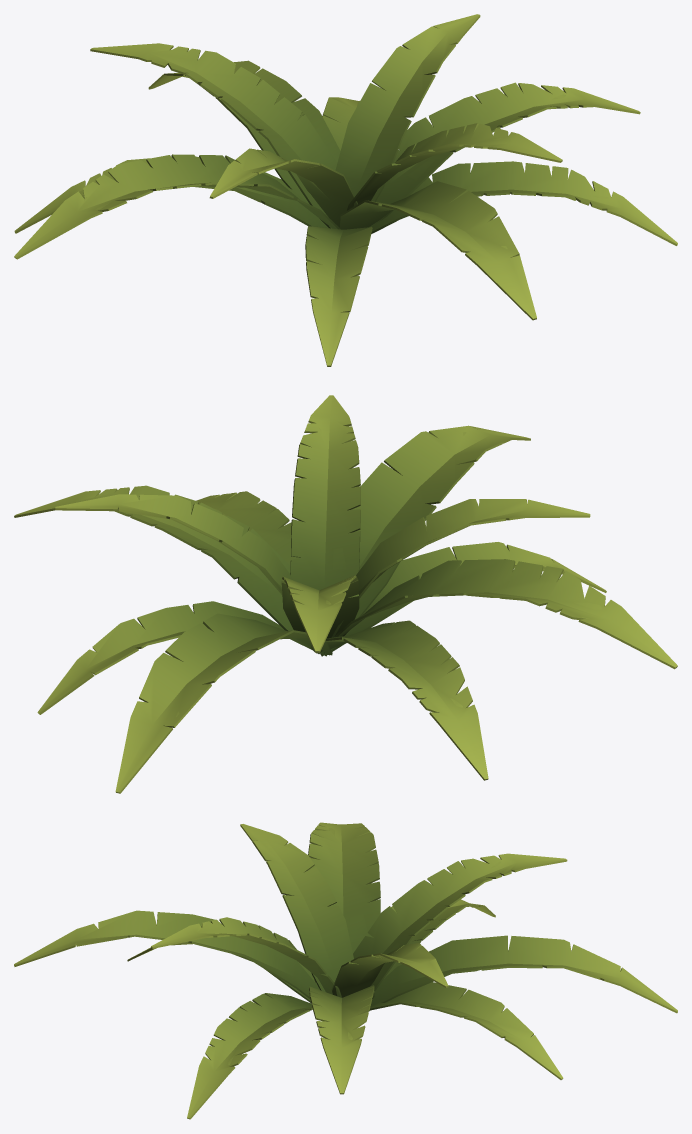
File: Plant_04.fbx
3 views of the same model, one above another, from view 1: azimuth 30°, elevation 25°; view 2: azimuth 150°, elevation 25°; view 3: azimuth 270°, elevation 25° (orthographic). The views are drawn at different scales.
Parts seen in each view (by area): view 1: Plant_04_LOD0; view 2: Plant_04_LOD0; view 3: Plant_04_LOD0.
Part boxes in pixels (x1=…): Plant_04_LOD0: x1=14, y1=14, x2=677, y2=366; Plant_04_LOD0: x1=14, y1=395, x2=677, y2=793; Plant_04_LOD0: x1=14, y1=822, x2=677, y2=1119.
Size of what is drawn, in the model's own units: 1.4 by 0.3086 by 1.5.
